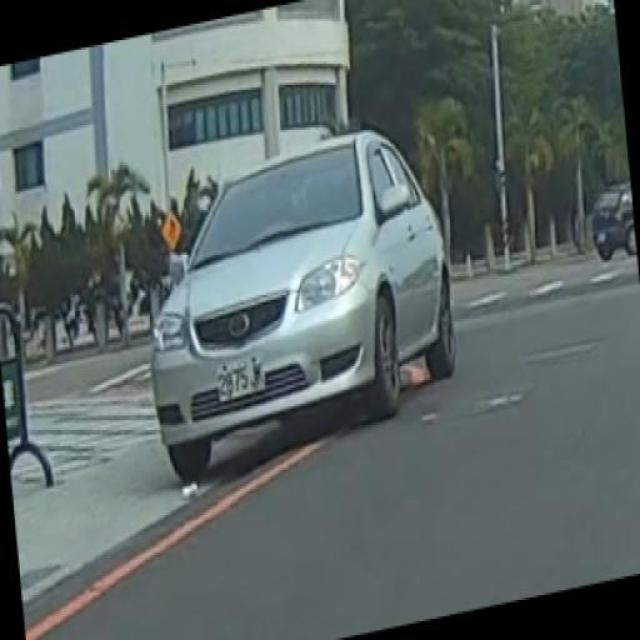Legalparking: (86, 94, 504, 504)
